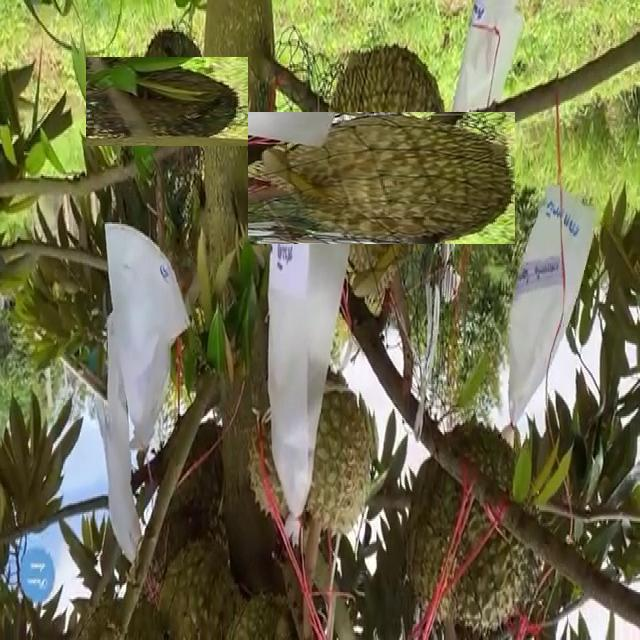durian: (282, 78, 482, 278), (405, 414, 543, 629), (247, 361, 383, 536), (105, 38, 230, 165)
